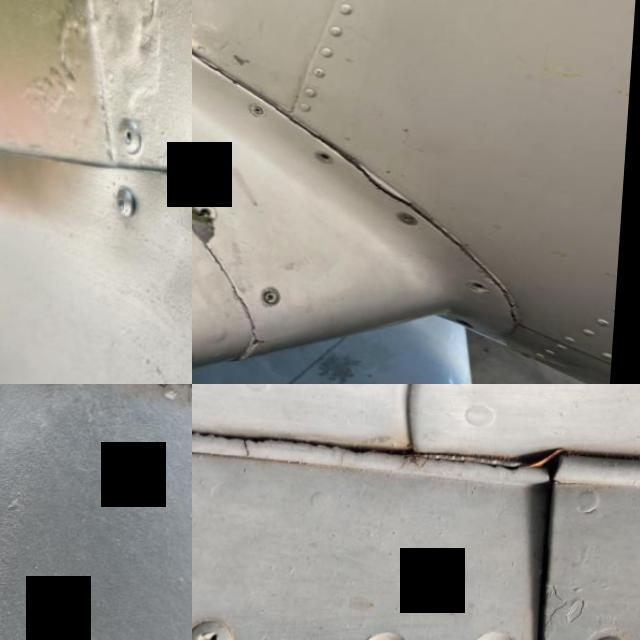Crack: (437, 201, 573, 333), (356, 160, 426, 209), (192, 155, 229, 247), (234, 329, 306, 354)
Missing_Fastener: (333, 610, 446, 640), (470, 278, 500, 298), (313, 150, 342, 166)
